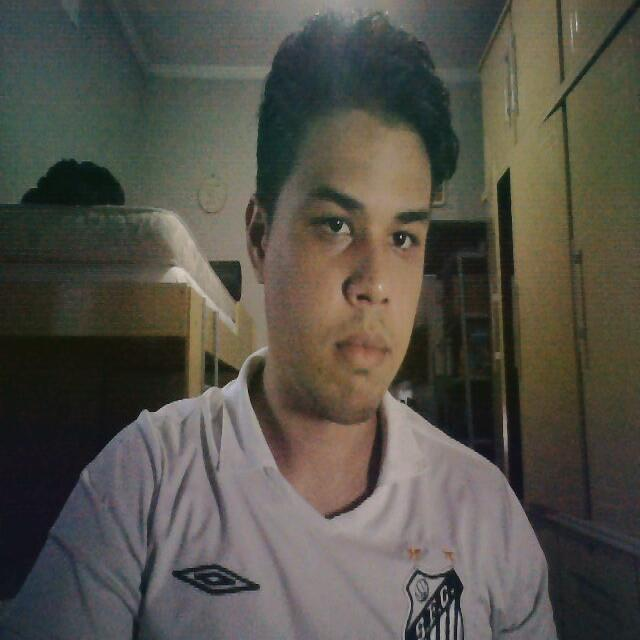acordado: (256, 119, 429, 438)
